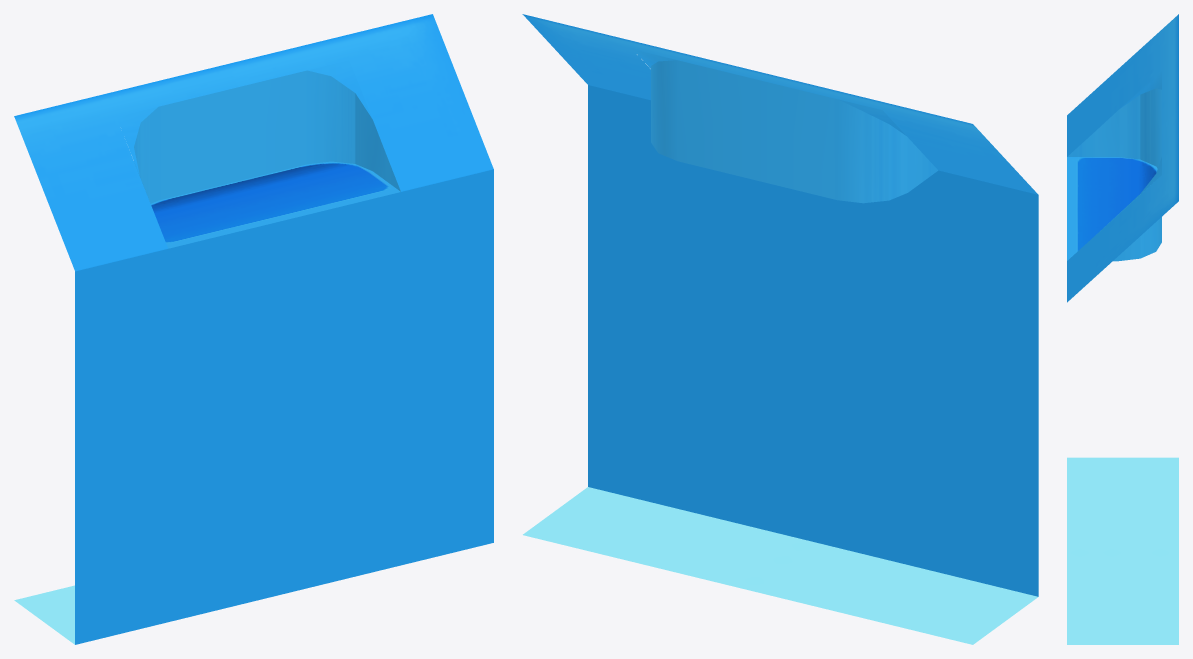
Rendered from Socket_Bottom.glb.
The picture shows the model from 3 angles, left to right: view 1: azimuth 30°, elevation 25°; view 2: azimuth 150°, elevation 25°; view 3: azimuth 270°, elevation 25°; orthographic projection. The views are drawn at different scales.
Parts seen in each view (by area): view 1: Socket_Bottom; view 2: Socket_Bottom; view 3: Socket_Bottom.
Part boxes in pixels (x1,y1,x2,y2): Socket_Bottom: (14, 14, 493, 644); Socket_Bottom: (522, 14, 1038, 644); Socket_Bottom: (1067, 14, 1178, 644).
Size of the model in its own units: 0.5427 by 0.5995 by 0.137.
Materials: 1 (1 with a texture image).
